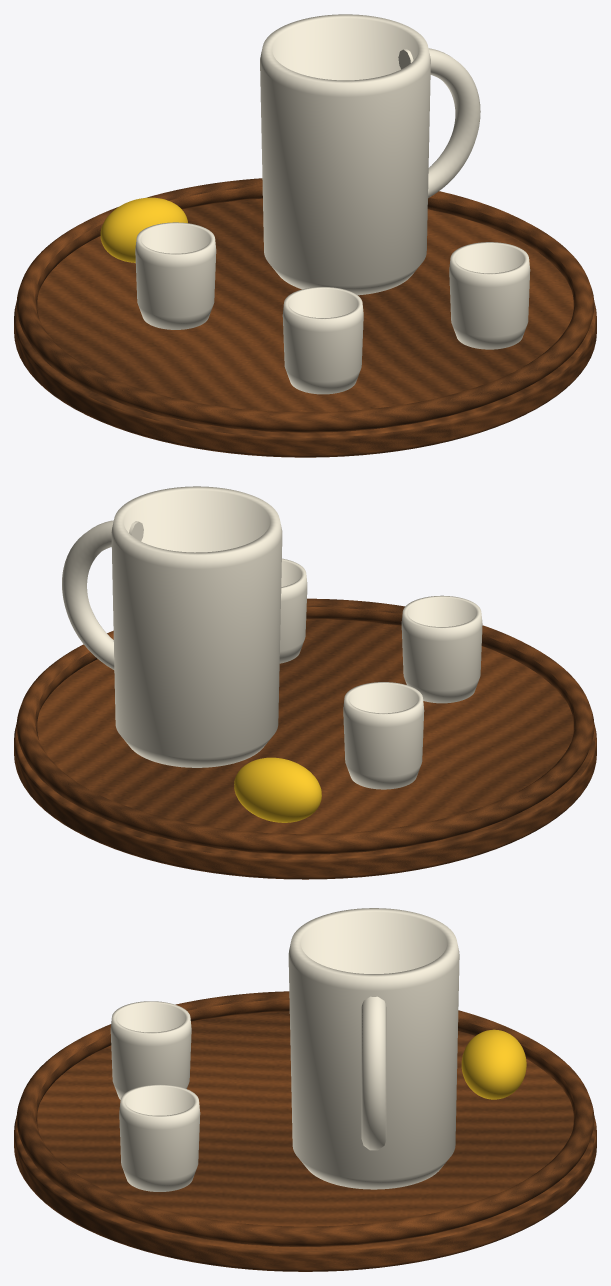
File: refreshment-set.glb
The picture shows the model from 3 angles, top to bottom: view 1: azimuth 30°, elevation 25°; view 2: azimuth 150°, elevation 25°; view 3: azimuth 270°, elevation 25°; orthographic projection.
Visible parts, largest first — view 1: teak-serving-tray, ceramic-pitcher, raised-tray-rim, ceramic-tumbler, ceramic-tumbler.002, ceramic-tumbler.001, pitcher-handle, fresh-lemon; view 2: teak-serving-tray, ceramic-pitcher, raised-tray-rim, ceramic-tumbler, ceramic-tumbler.001, fresh-lemon, pitcher-handle, ceramic-tumbler.002; view 3: teak-serving-tray, ceramic-pitcher, raised-tray-rim, ceramic-tumbler.002, ceramic-tumbler.001, pitcher-handle, fresh-lemon.
Part boxes in pixels (left/top/right/bottom): teak-serving-tray: left=14, top=198, right=596, bottom=457; ceramic-pitcher: left=260, top=14, right=430, bottom=295; raised-tray-rim: left=16, top=178, right=594, bottom=432; ceramic-tumbler: left=135, top=222, right=216, bottom=329; ceramic-tumbler.002: left=449, top=242, right=530, bottom=349; ceramic-tumbler.001: left=282, top=287, right=363, bottom=394; pitcher-handle: left=398, top=48, right=480, bottom=197; fresh-lemon: left=100, top=197, right=187, bottom=262; teak-serving-tray: left=14, top=619, right=596, bottom=879; ceramic-pitcher: left=111, top=486, right=282, bottom=767; raised-tray-rim: left=16, top=598, right=594, bottom=854; ceramic-tumbler: left=343, top=682, right=424, bottom=789; ceramic-tumbler.001: left=401, top=595, right=482, bottom=703; fresh-lemon: left=234, top=757, right=321, bottom=822; pitcher-handle: left=62, top=520, right=143, bottom=669; ceramic-tumbler.002: left=279, top=558, right=307, bottom=663; teak-serving-tray: left=14, top=1011, right=596, bottom=1271; ceramic-pitcher: left=288, top=908, right=459, bottom=1189; raised-tray-rim: left=16, top=991, right=594, bottom=1246; ceramic-tumbler.002: left=119, top=1084, right=200, bottom=1191; ceramic-tumbler.001: left=110, top=1001, right=191, bottom=1099; pitcher-handle: left=361, top=996, right=386, bottom=1150; fresh-lemon: left=461, top=1029, right=526, bottom=1099.
Size of the model in its own units: 0.68 by 0.313 by 0.68.
3 materials, 1 textured.
